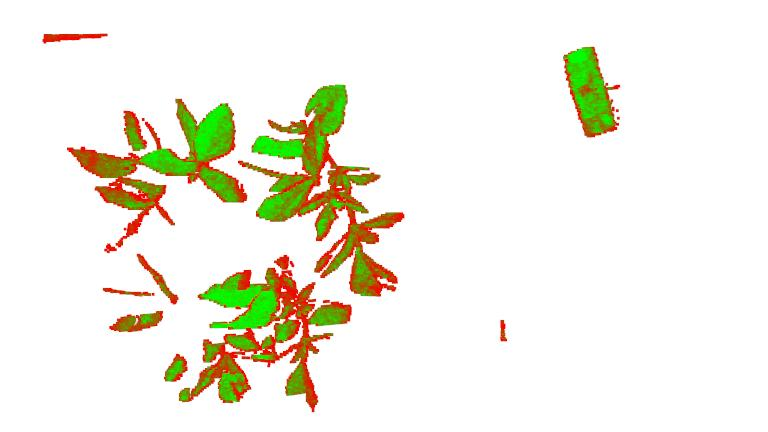mungbean: (251, 82, 404, 297), (66, 97, 248, 252), (100, 253, 254, 403), (254, 255, 356, 415)
